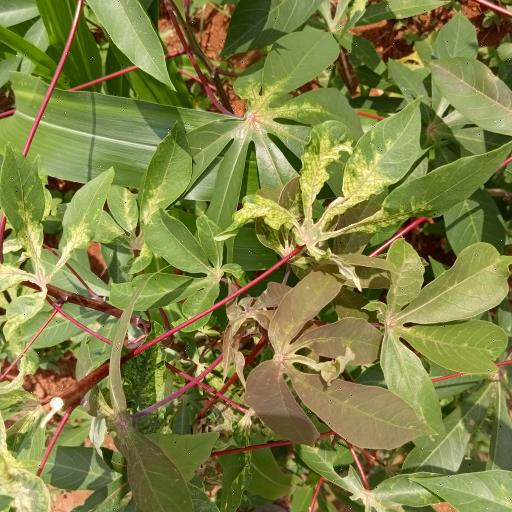Cassava_Brown_Leaf_Spot: (241, 129, 501, 269), (0, 166, 115, 340)
